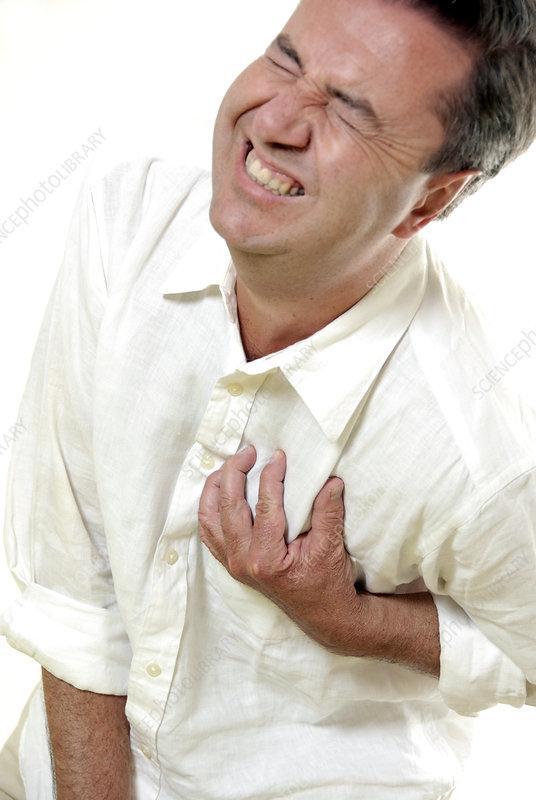pain: (263, 22, 394, 163)
